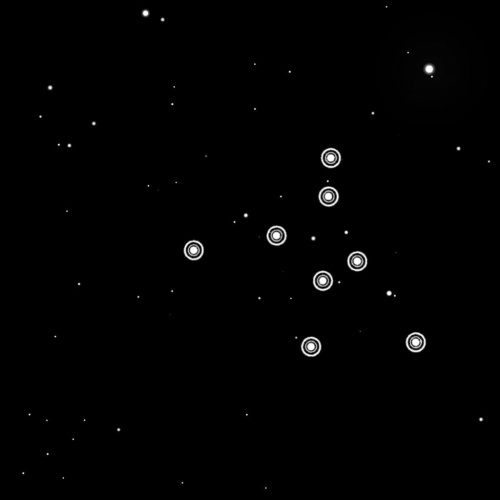hercules: (180, 143, 429, 365)
